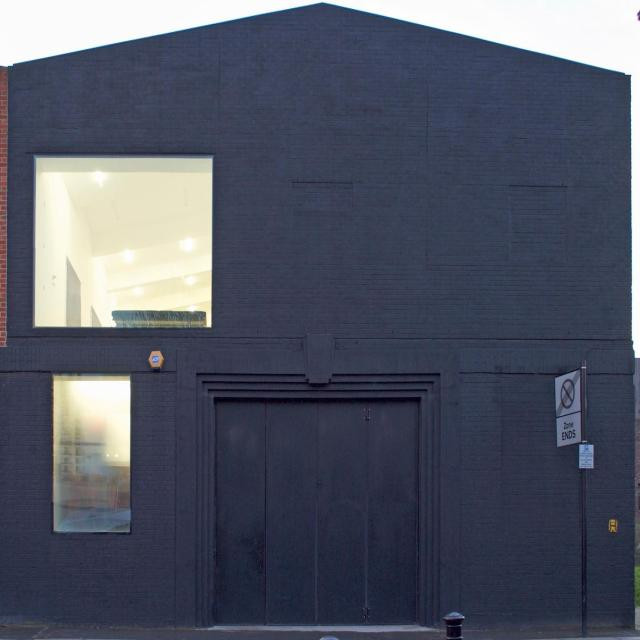door: (211, 397, 424, 628)
window: (34, 155, 214, 327), (52, 372, 130, 535)
